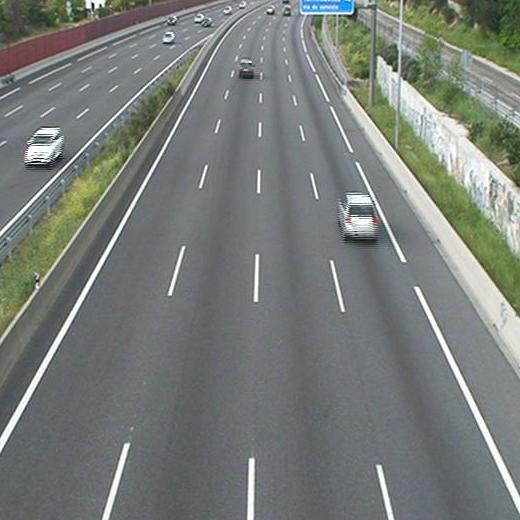car: (338, 196, 379, 237), (239, 59, 254, 76), (282, 5, 291, 14), (265, 6, 274, 14)
